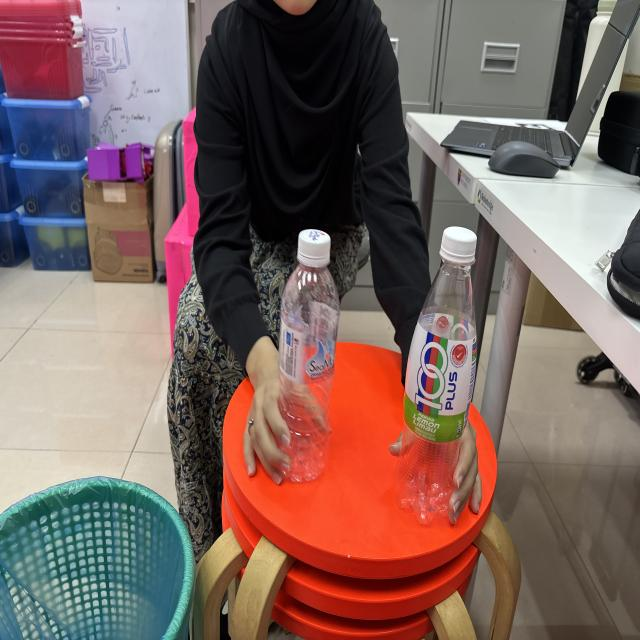dustbin: (0, 463, 204, 640)
plastic_bottle: (396, 217, 482, 527), (270, 222, 344, 490)
